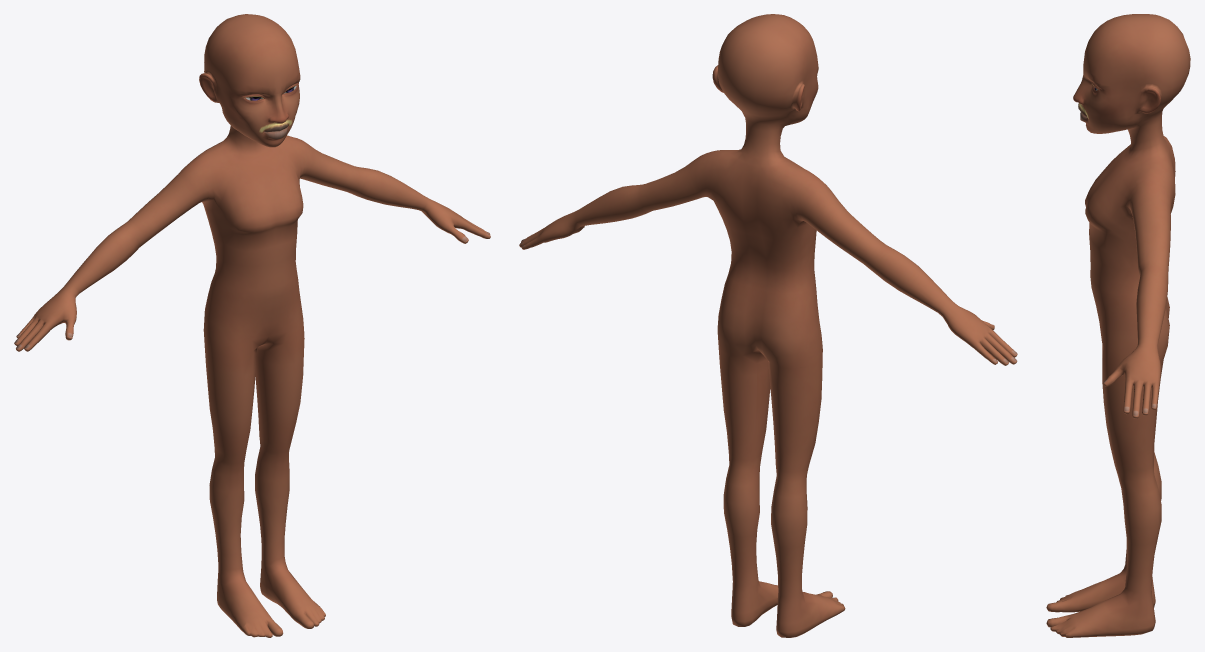
File: frame_0053.glb
3 renders of one model, left to right at view 1: azimuth 30°, elevation 25°; view 2: azimuth 150°, elevation 25°; view 3: azimuth 270°, elevation 25°, orthographic. The views are drawn at different scales.
Visible parts, largest first — view 1: frame_0053_head_geo; view 2: frame_0053_head_geo; view 3: frame_0053_head_geo.
Part boxes in pixels (x1=…): frame_0053_head_geo: x1=14, y1=14, x2=490, y2=637; frame_0053_head_geo: x1=519, y1=14, x2=1017, y2=637; frame_0053_head_geo: x1=1046, y1=14, x2=1190, y2=637.
Size of the model in its own units: 1.28 by 1.5 by 0.3253.
Materials: 3 (3 with a texture image).
